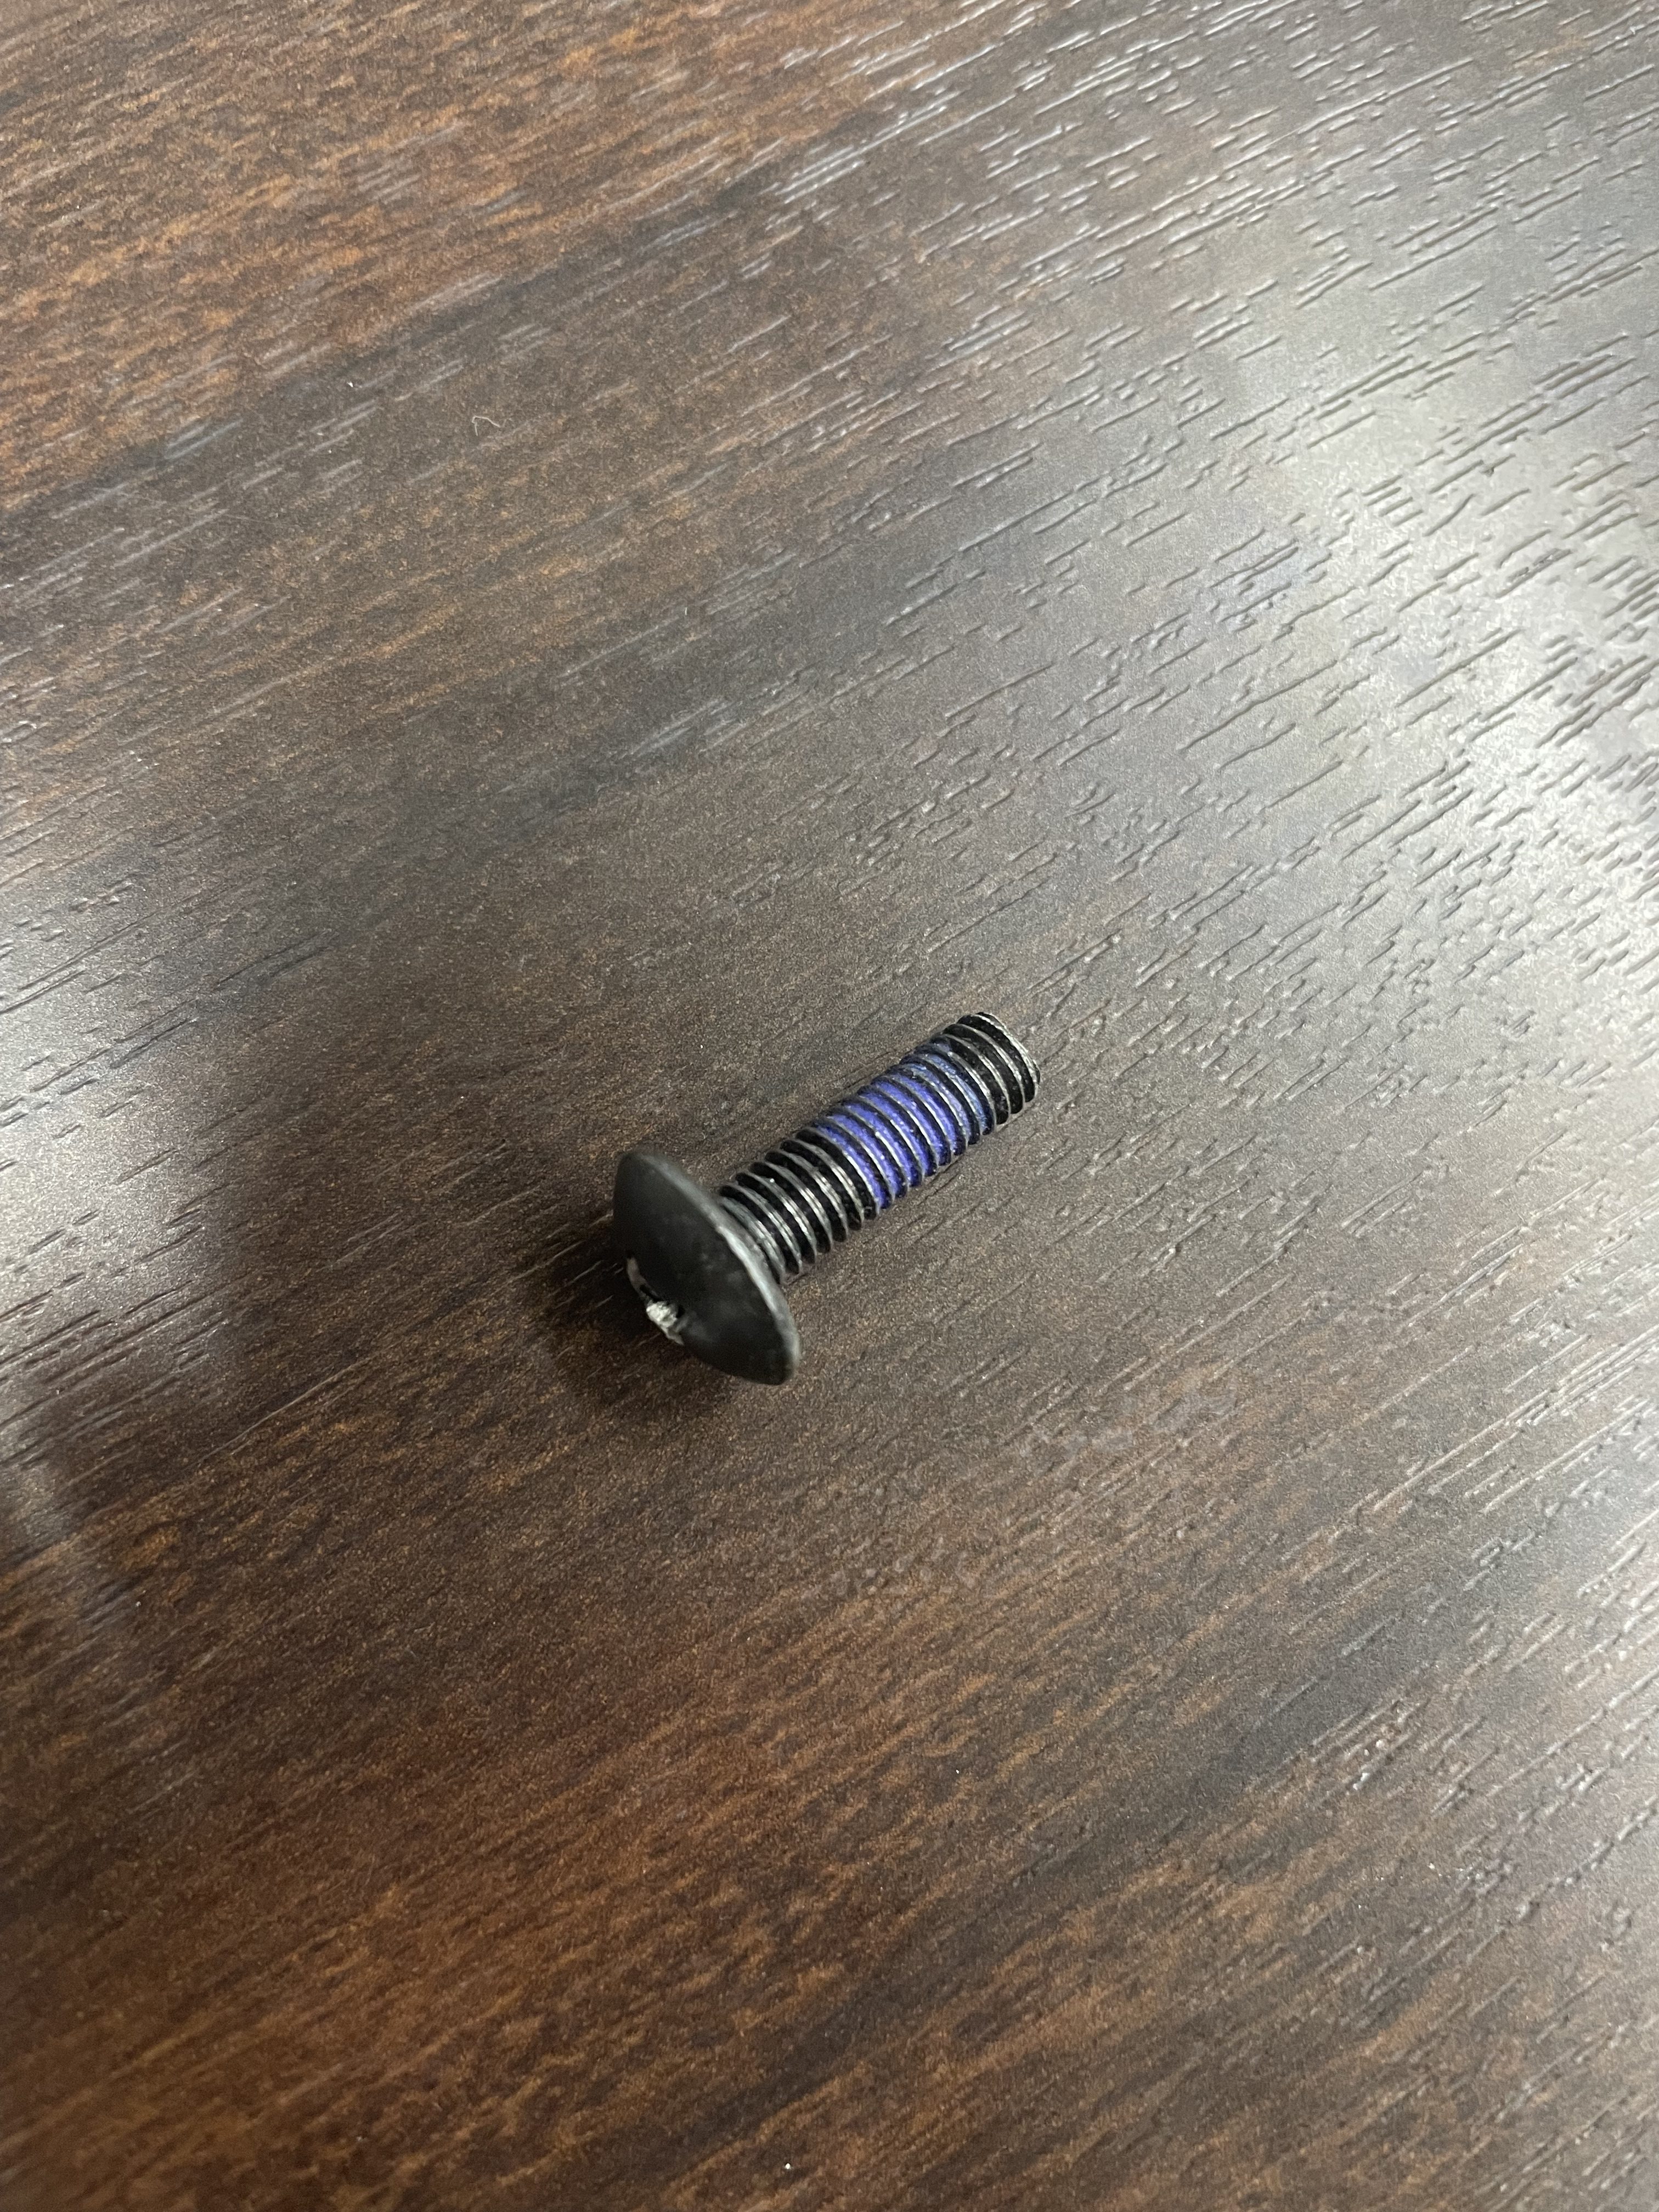screw1: (611, 1011, 1044, 1388)
